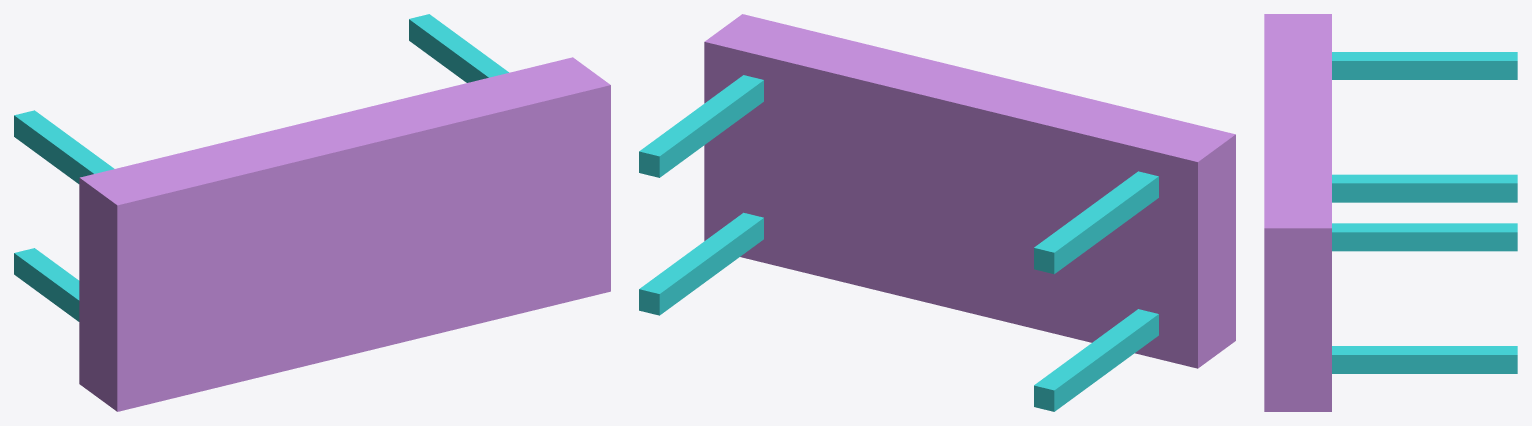
Rendered from bedroom-bench.glb.
3 views of the same model, side by side, from view 1: azimuth 30°, elevation 25°; view 2: azimuth 150°, elevation 25°; view 3: azimuth 270°, elevation 25° (orthographic). The views are drawn at different scales.
Visible parts, largest first — view 1: world; view 2: world; view 3: world.
Boxes of the visible parts, x1,y1,x2,y2 form: world: (14,14,610,411); world: (639,14,1235,411); world: (1264,14,1517,411).
Size of the model in its own units: 1.2 by 0.48 by 0.6.
